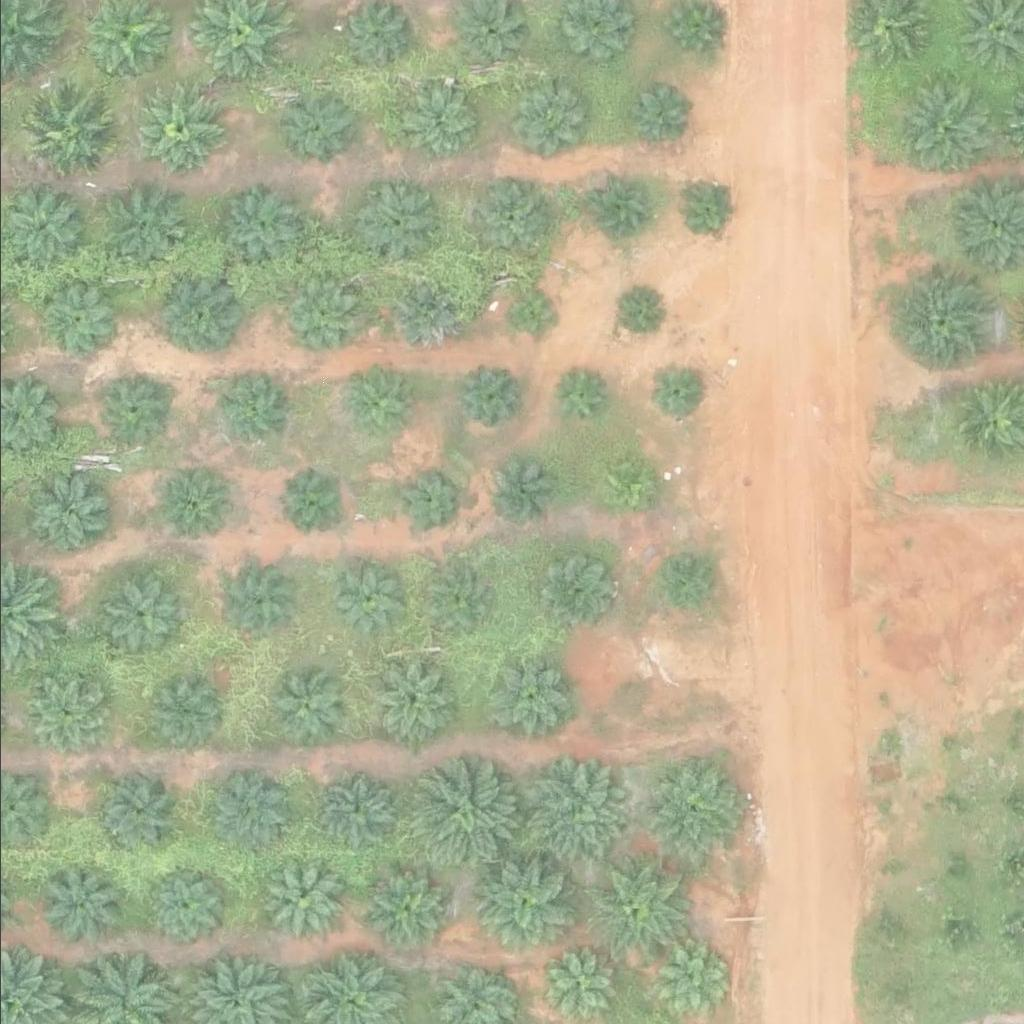Kelapa_Sawit: (514, 759, 628, 872), (407, 765, 521, 878), (898, 77, 999, 177), (892, 276, 993, 376), (640, 760, 741, 860), (589, 858, 690, 958), (470, 858, 570, 958), (12, 82, 112, 182), (92, 575, 181, 663), (353, 179, 441, 267), (153, 274, 241, 362), (213, 183, 301, 271), (21, 671, 109, 759), (22, 466, 111, 553), (32, 860, 120, 947), (138, 866, 226, 953), (93, 775, 181, 862), (132, 88, 220, 175), (94, 183, 182, 270), (403, 83, 479, 158), (280, 87, 356, 162), (422, 566, 498, 641), (532, 550, 608, 625), (371, 664, 447, 739), (491, 659, 567, 734), (318, 779, 394, 854), (204, 777, 280, 852), (365, 871, 441, 946), (261, 866, 337, 941), (511, 84, 586, 159), (467, 182, 542, 257), (540, 948, 615, 1023), (91, 376, 166, 451), (207, 364, 282, 439), (216, 565, 291, 640), (144, 670, 219, 745), (272, 672, 347, 747), (332, 566, 407, 641), (281, 274, 356, 349), (382, 281, 457, 356), (477, 453, 552, 528), (387, 467, 462, 542), (273, 465, 348, 540), (149, 468, 224, 543), (33, 282, 108, 357), (675, 176, 738, 239), (586, 177, 649, 240), (346, 374, 409, 437), (591, 451, 654, 514), (653, 543, 716, 606), (626, 86, 689, 148), (644, 361, 707, 423), (544, 365, 607, 427), (457, 365, 520, 427), (612, 291, 663, 341), (506, 290, 557, 340)
